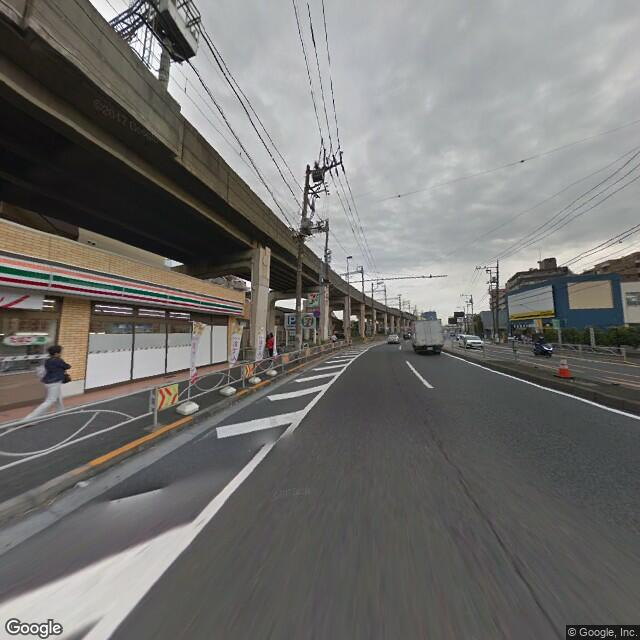7-eleven: (1, 252, 245, 319), (302, 290, 319, 310)
